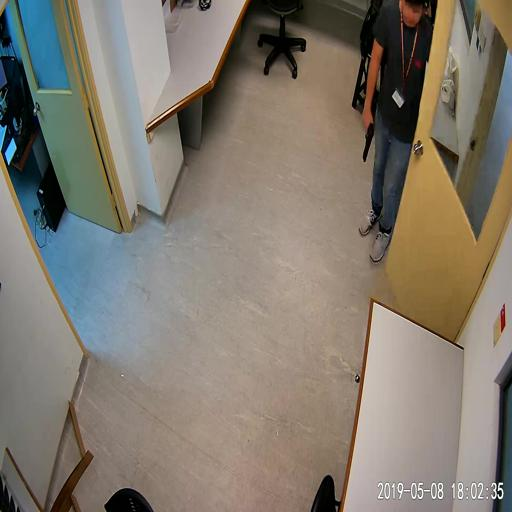pistol: (363, 119, 374, 161)
